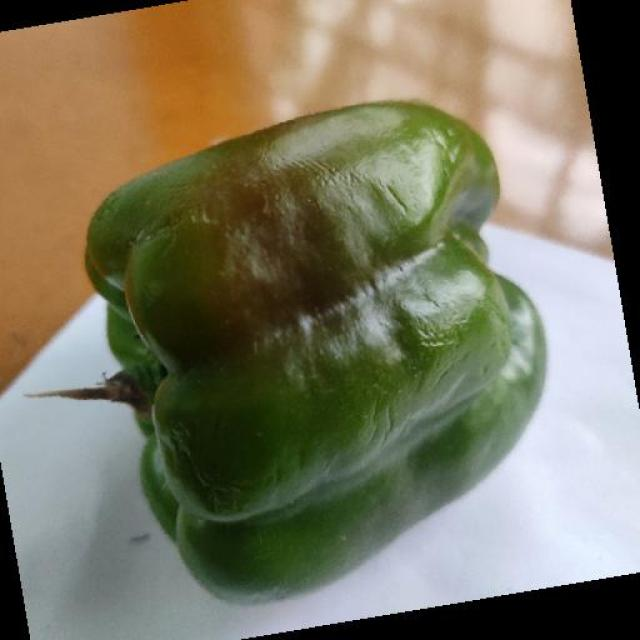Stale_Capsicum: (38, 165, 567, 536)
